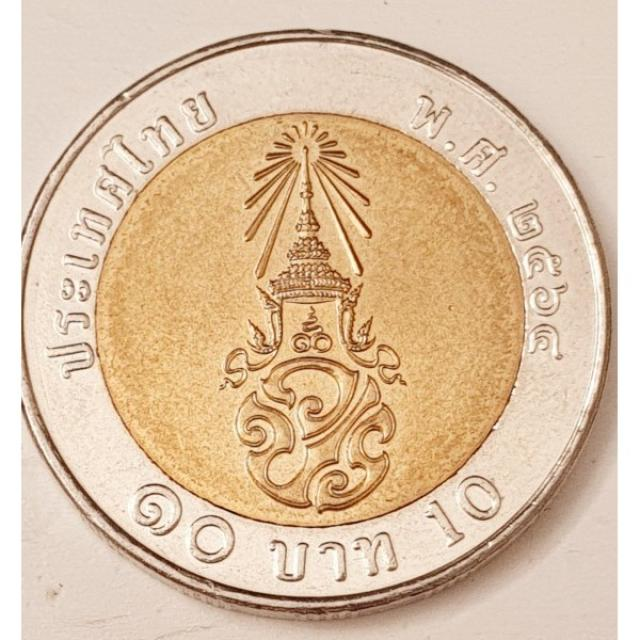10 Bath: (24, 33, 627, 629)
